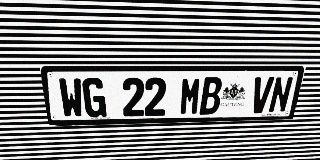2: (122, 78, 144, 117), (145, 77, 166, 116)
B: (199, 77, 223, 115)
G: (82, 78, 107, 118)
M: (179, 77, 202, 115)
N: (268, 77, 294, 113)
V: (249, 77, 275, 113)
W: (58, 78, 84, 118)
